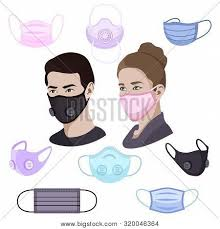masked: (111, 42, 171, 119), (43, 52, 100, 126)
